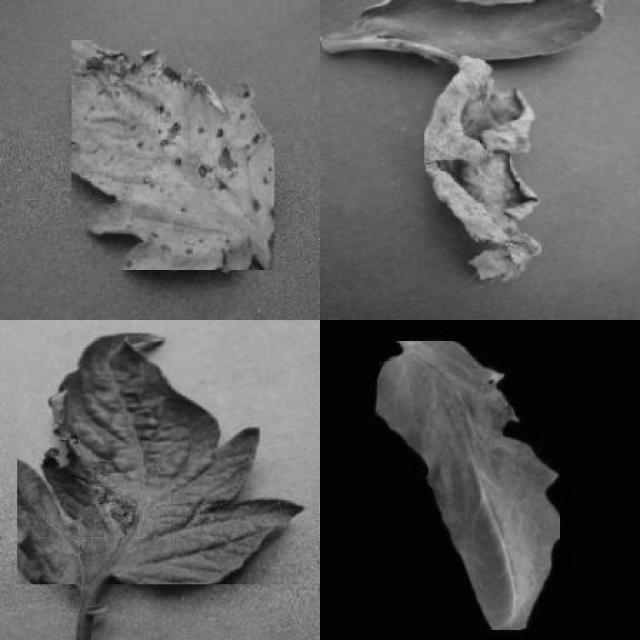Early Blight: (18, 332, 311, 584)
Late Blight: (378, 340, 561, 629), (425, 54, 542, 286)
Septoria: (72, 40, 275, 270)
